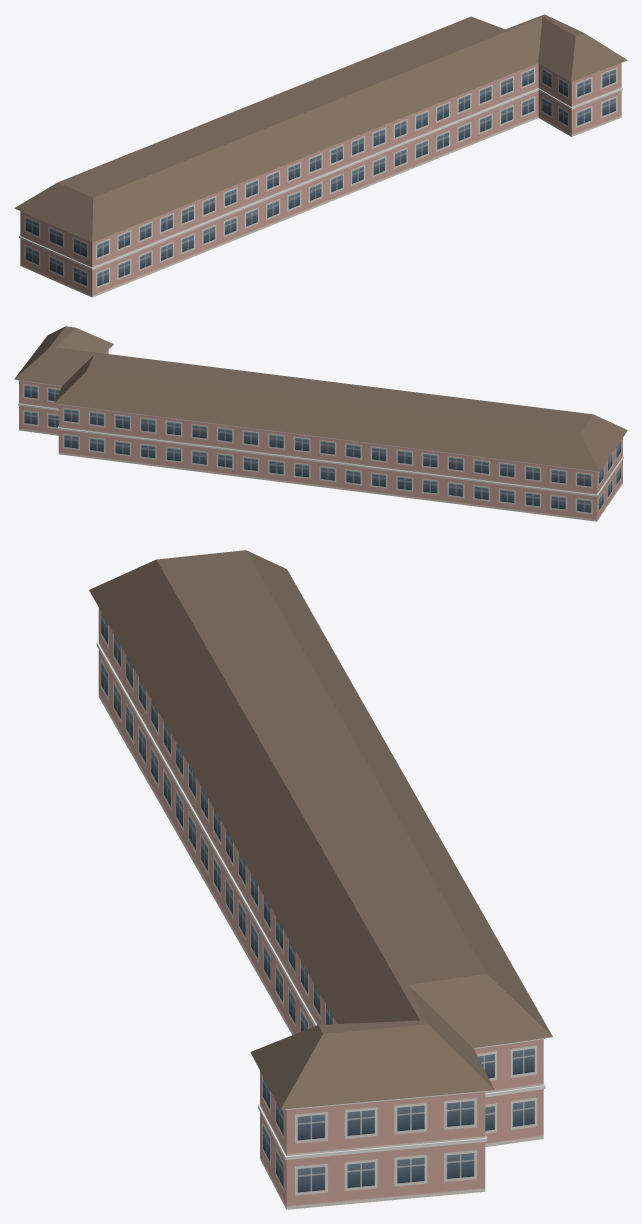
Rendered from kechuang1.glb.
3 renders of one model, top to bottom at view 1: azimuth 30°, elevation 25°; view 2: azimuth 150°, elevation 25°; view 3: azimuth 270°, elevation 25°, orthographic. The views are drawn at different scales.
Visible parts, largest first — view 1: 科创1号楼; view 2: 科创1号楼; view 3: 科创1号楼.
Boxes of the visible parts, x1,y1,x2,y2 form: 科创1号楼: [14, 14, 627, 297]; 科创1号楼: [14, 326, 627, 521]; 科创1号楼: [89, 550, 552, 1209].
Bounding box in the file's own units: 80.13 × 10.5 × 29.09.
Materials: 3 (1 with a texture image).
